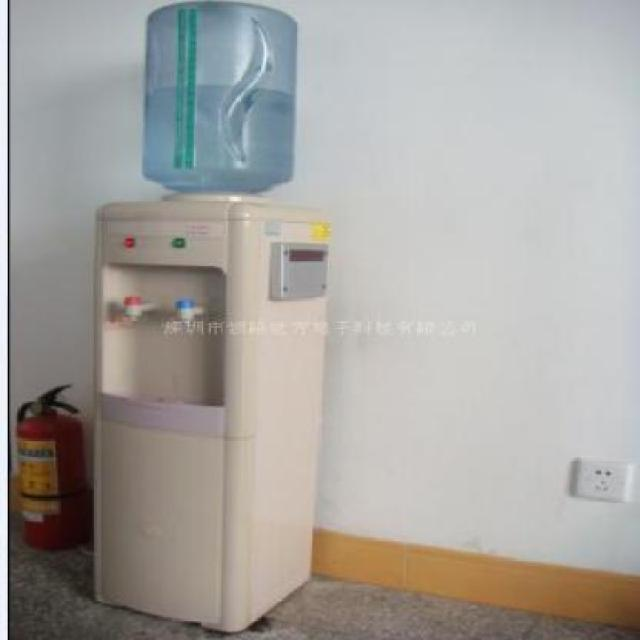cooler: (94, 1, 331, 632)
